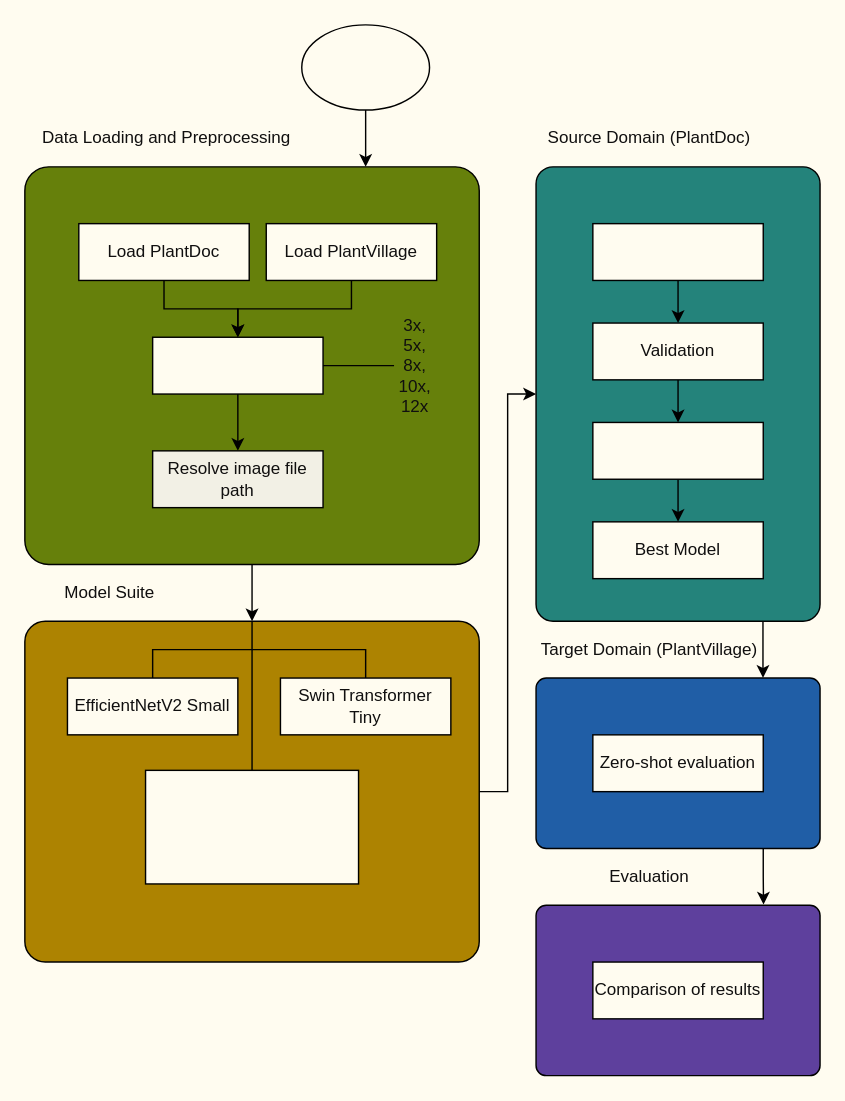
The diagram is 845 pixels wide and 1101 high, and some of its shapes have lost their labels. Here are the shapes that lost their labels. From the top down, the centre of each, then its label:
(365,66): Start
(677,251): Training
(237,365): Preprocessing and data augmentations
(677,450): Testing
(251,826): EfficientNetV2 Small and Swin Transformer Tiny Hybrid
